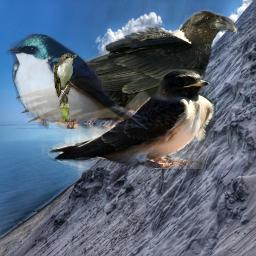Crow: (13, 8, 241, 149)
Cuckoo: (54, 51, 77, 122)
Swallow: (46, 69, 216, 169), (6, 32, 148, 129)
